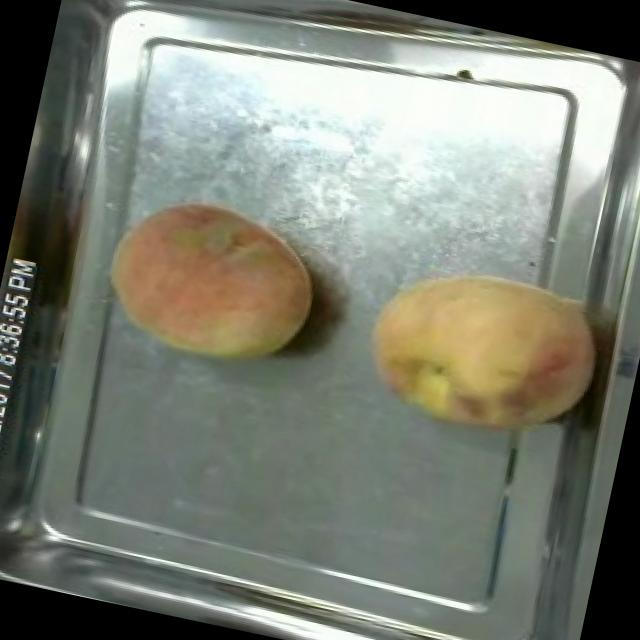Fruit: (347, 237, 620, 460), (87, 176, 336, 390)
